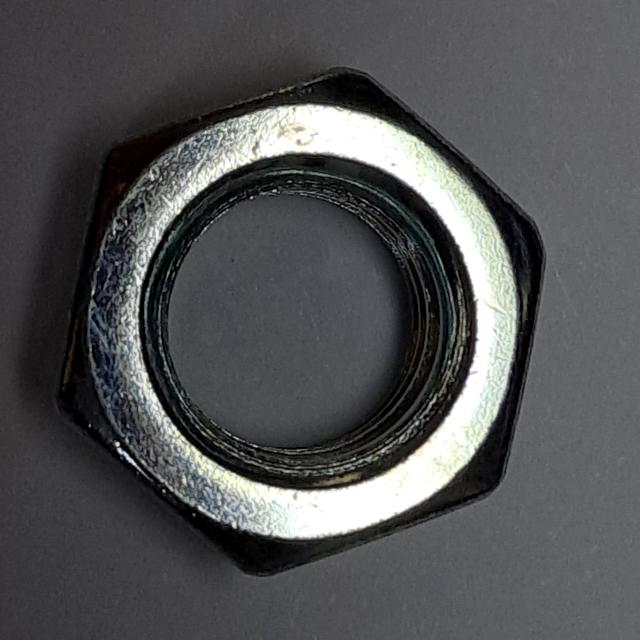Excellent: (42, 53, 553, 593)
